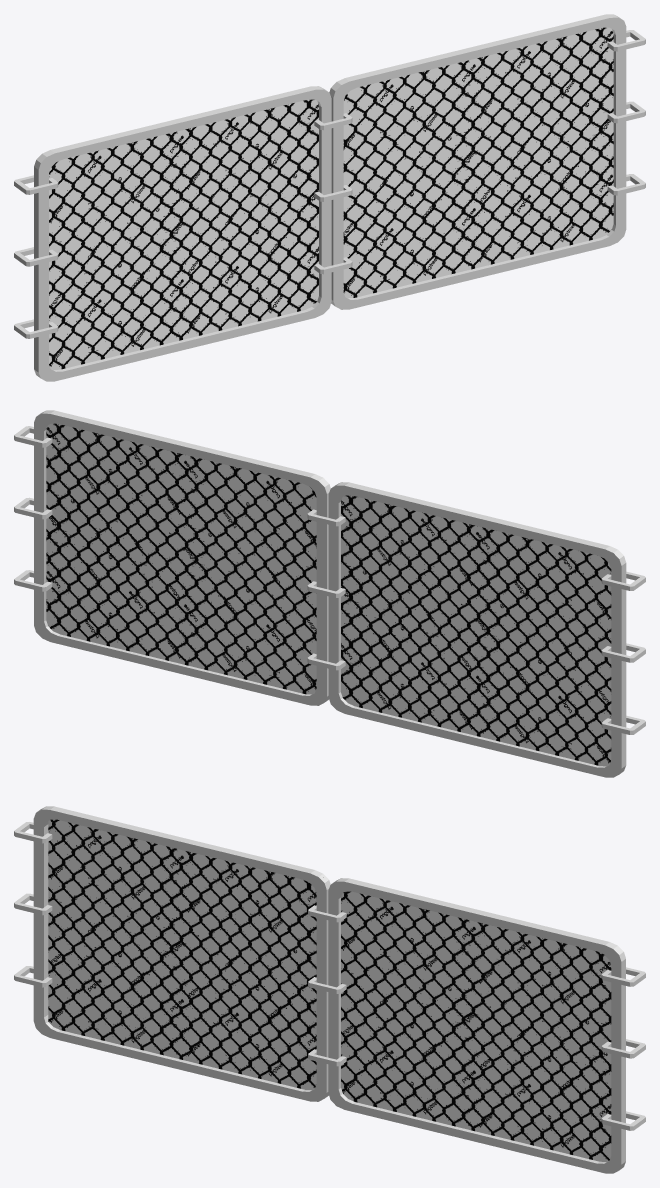
File: Fence3V2.fbx
3 views of the same model, one above another, from view 1: azimuth 30°, elevation 25°; view 2: azimuth 150°, elevation 25°; view 3: azimuth 330°, elevation 25° (orthographic).
Visible parts, largest first — view 1: FenceTex.003, FenceTex.002, Fence.001, Fence.003, Chain.002, Chain.005, Chain.003; view 2: FenceTex.002, FenceTex.003, Fence.001, Fence.003, Chain.002, Chain.005, Chain.003; view 3: FenceTex.003, FenceTex.002, Fence.001, Fence.003, Chain.005, Chain.002, Chain.003.
Boxes of the visible parts, x1=… form: FenceTex.003: x1=343, y1=27, x2=613, y2=297; FenceTex.002: x1=49, y1=99, x2=318, y2=369; Fence.001: x1=34, y1=86, x2=331, y2=381; Fence.003: x1=329, y1=14, x2=626, y2=309; Chain.002: x1=14, y1=175, x2=58, y2=338; Chain.005: x1=607, y1=30, x2=645, y2=195; Chain.003: x1=314, y1=113, x2=352, y2=274; FenceTex.002: x1=336, y1=484, x2=611, y2=766; FenceTex.003: x1=46, y1=423, x2=316, y2=694; Fence.001: x1=328, y1=482, x2=626, y2=777; Fence.003: x1=34, y1=410, x2=330, y2=705; Chain.002: x1=601, y1=571, x2=645, y2=734; Chain.005: x1=14, y1=426, x2=52, y2=591; Chain.003: x1=307, y1=509, x2=345, y2=670; FenceTex.003: x1=341, y1=891, x2=611, y2=1161; FenceTex.002: x1=48, y1=819, x2=323, y2=1089; Fence.001: x1=33, y1=806, x2=330, y2=1101; Fence.003: x1=328, y1=878, x2=625, y2=1173; Chain.005: x1=601, y1=967, x2=645, y2=1130; Chain.002: x1=14, y1=822, x2=52, y2=987; Chain.003: x1=308, y1=905, x2=346, y2=1066.
Size of the model in its own units: 1386 by 488 by 56.3.
Materials: 2 (1 with a texture image).
